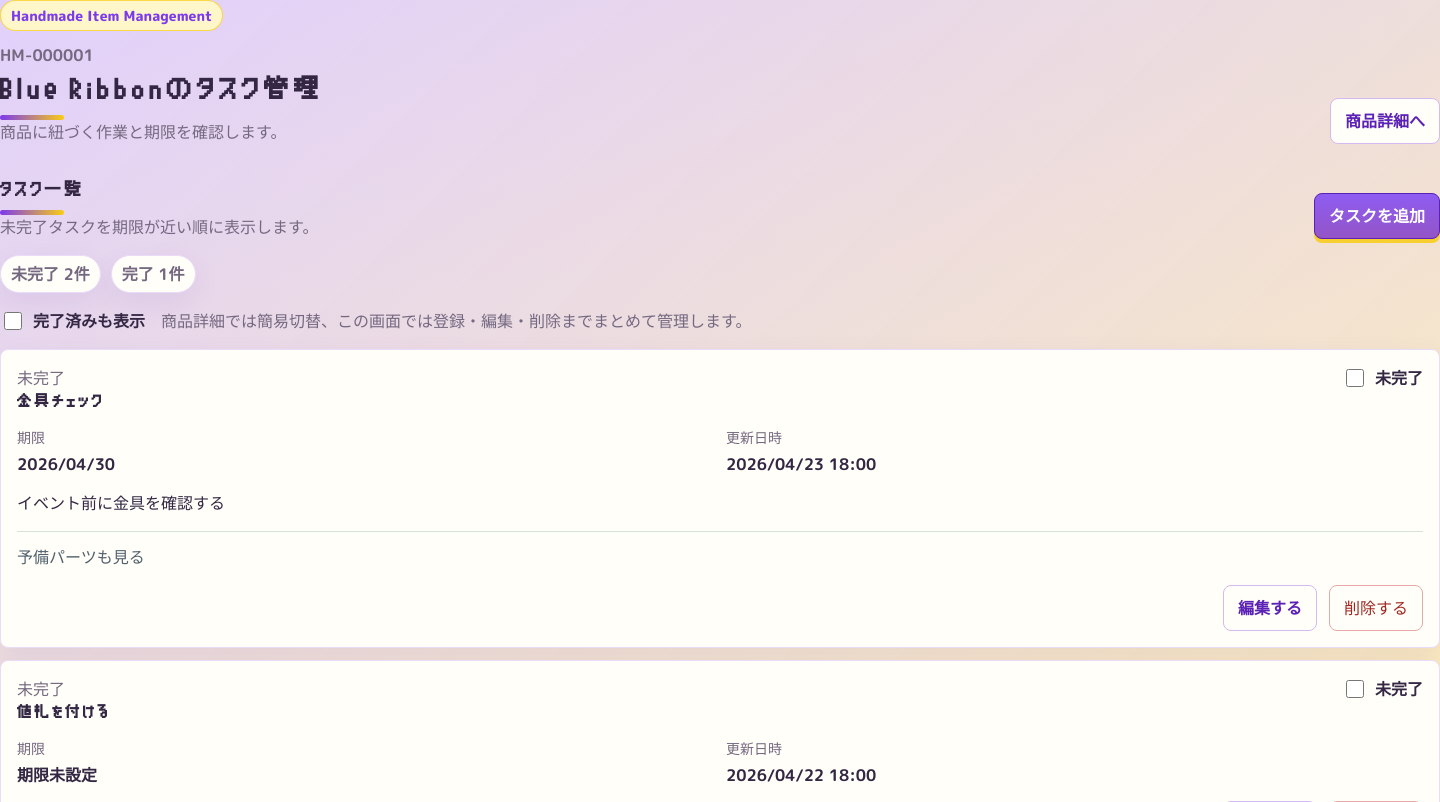
Test: ProductTaskManagementPage › updates task completion and keeps the task summary in sync
Expected: the heading "金具チェック" is shown, [17,390,105,413]
Click the checkbox named "金具チェックを完了にする": [1355, 378] box [1346,369,1364,387]
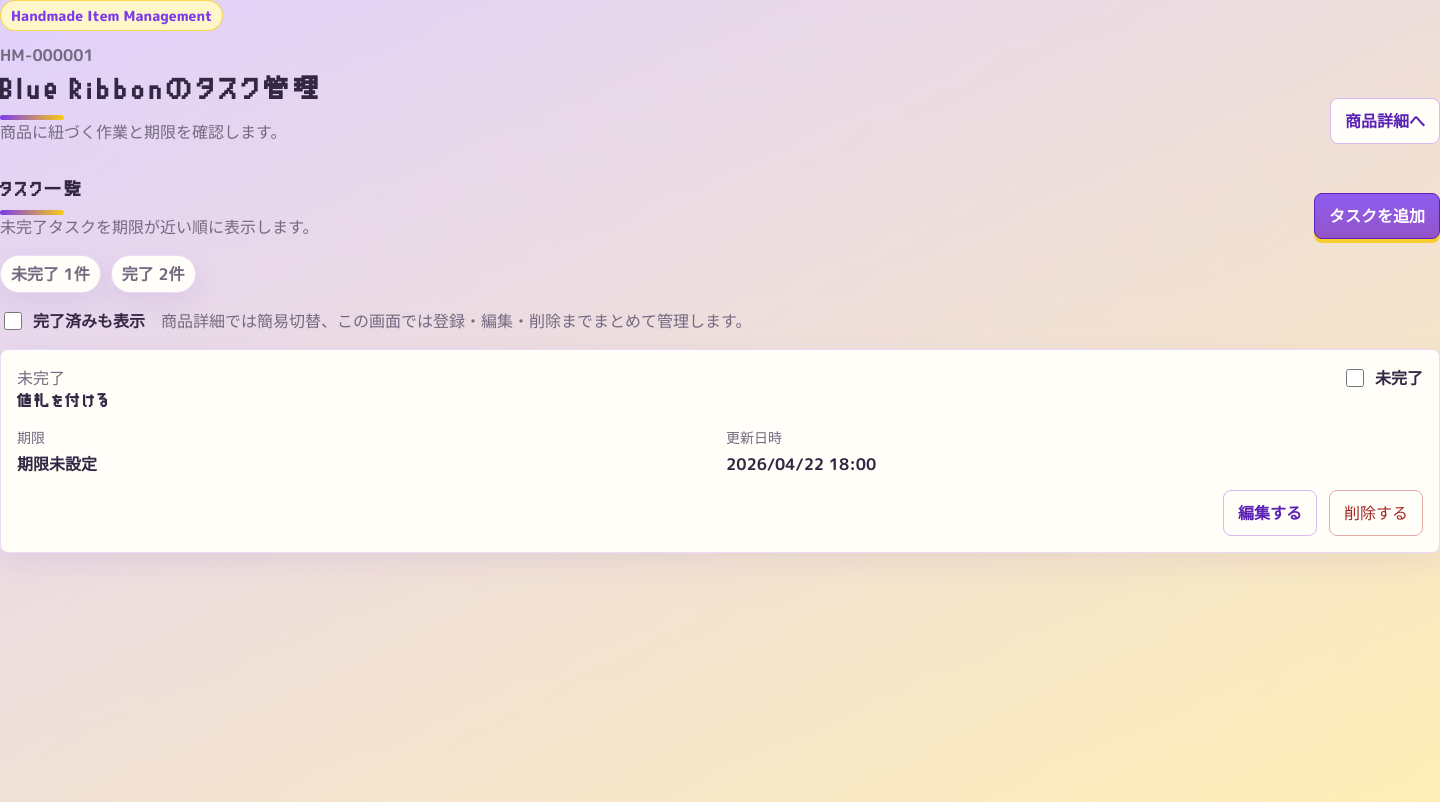
Now the heading "金具チェック" is gone
Now the text "未完了 1件" is shown, box [0,255,101,293]
Now the text "完了 2件" is shown, box [111,255,196,293]
